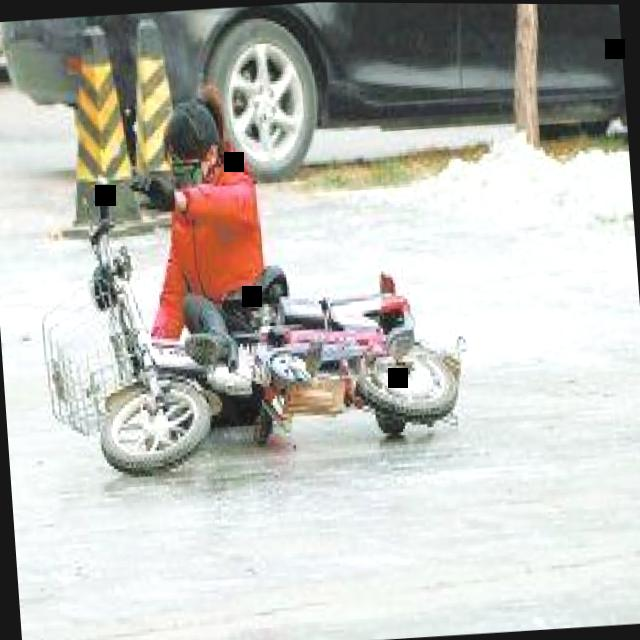Fall-Detected: (117, 54, 306, 436)
